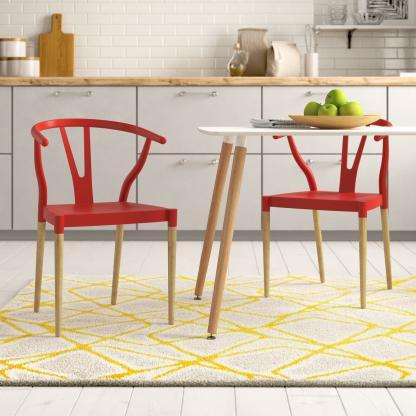chair: (19, 107, 190, 339), (253, 112, 394, 304)
table: (195, 120, 416, 344)
